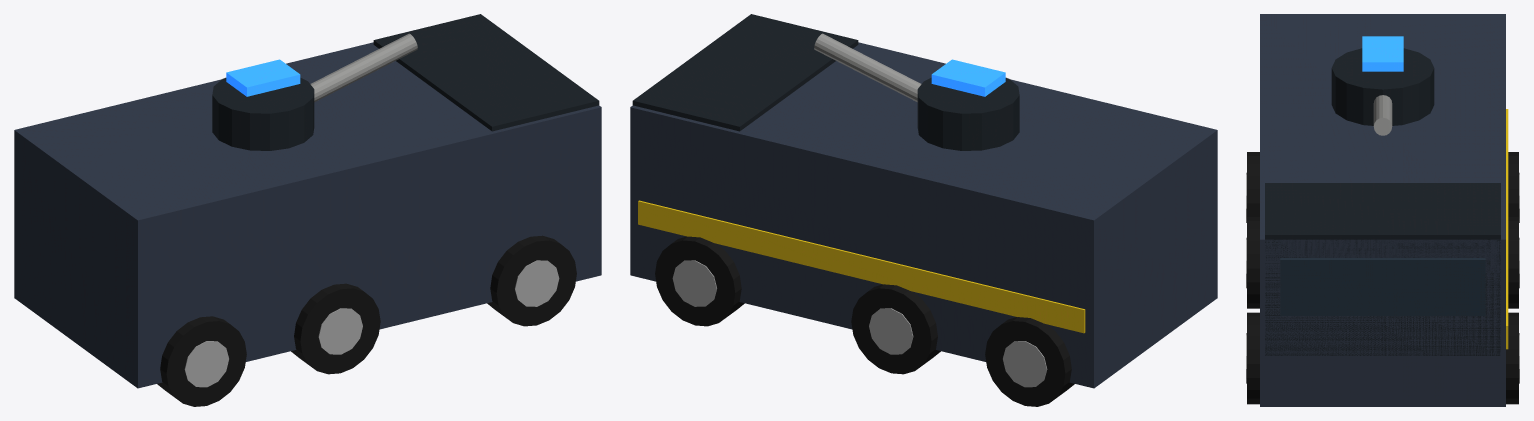
Rendered from water-cannon.glb.
3 views of the same model, side by side, from view 1: azimuth 30°, elevation 25°; view 2: azimuth 150°, elevation 25°; view 3: azimuth 270°, elevation 25° (orthographic).
Parts seen in each view (by area): view 1: Cube; view 2: Cube; view 3: Cube.
Boxes of the visible parts, box(x1,y1,x2,y2) form: Cube: box(14, 14, 601, 406); Cube: box(630, 14, 1217, 406); Cube: box(1246, 14, 1519, 406).
Size of the model in its own units: 1.92 by 1 by 0.9753.
Materials: 1 (1 with a texture image).
